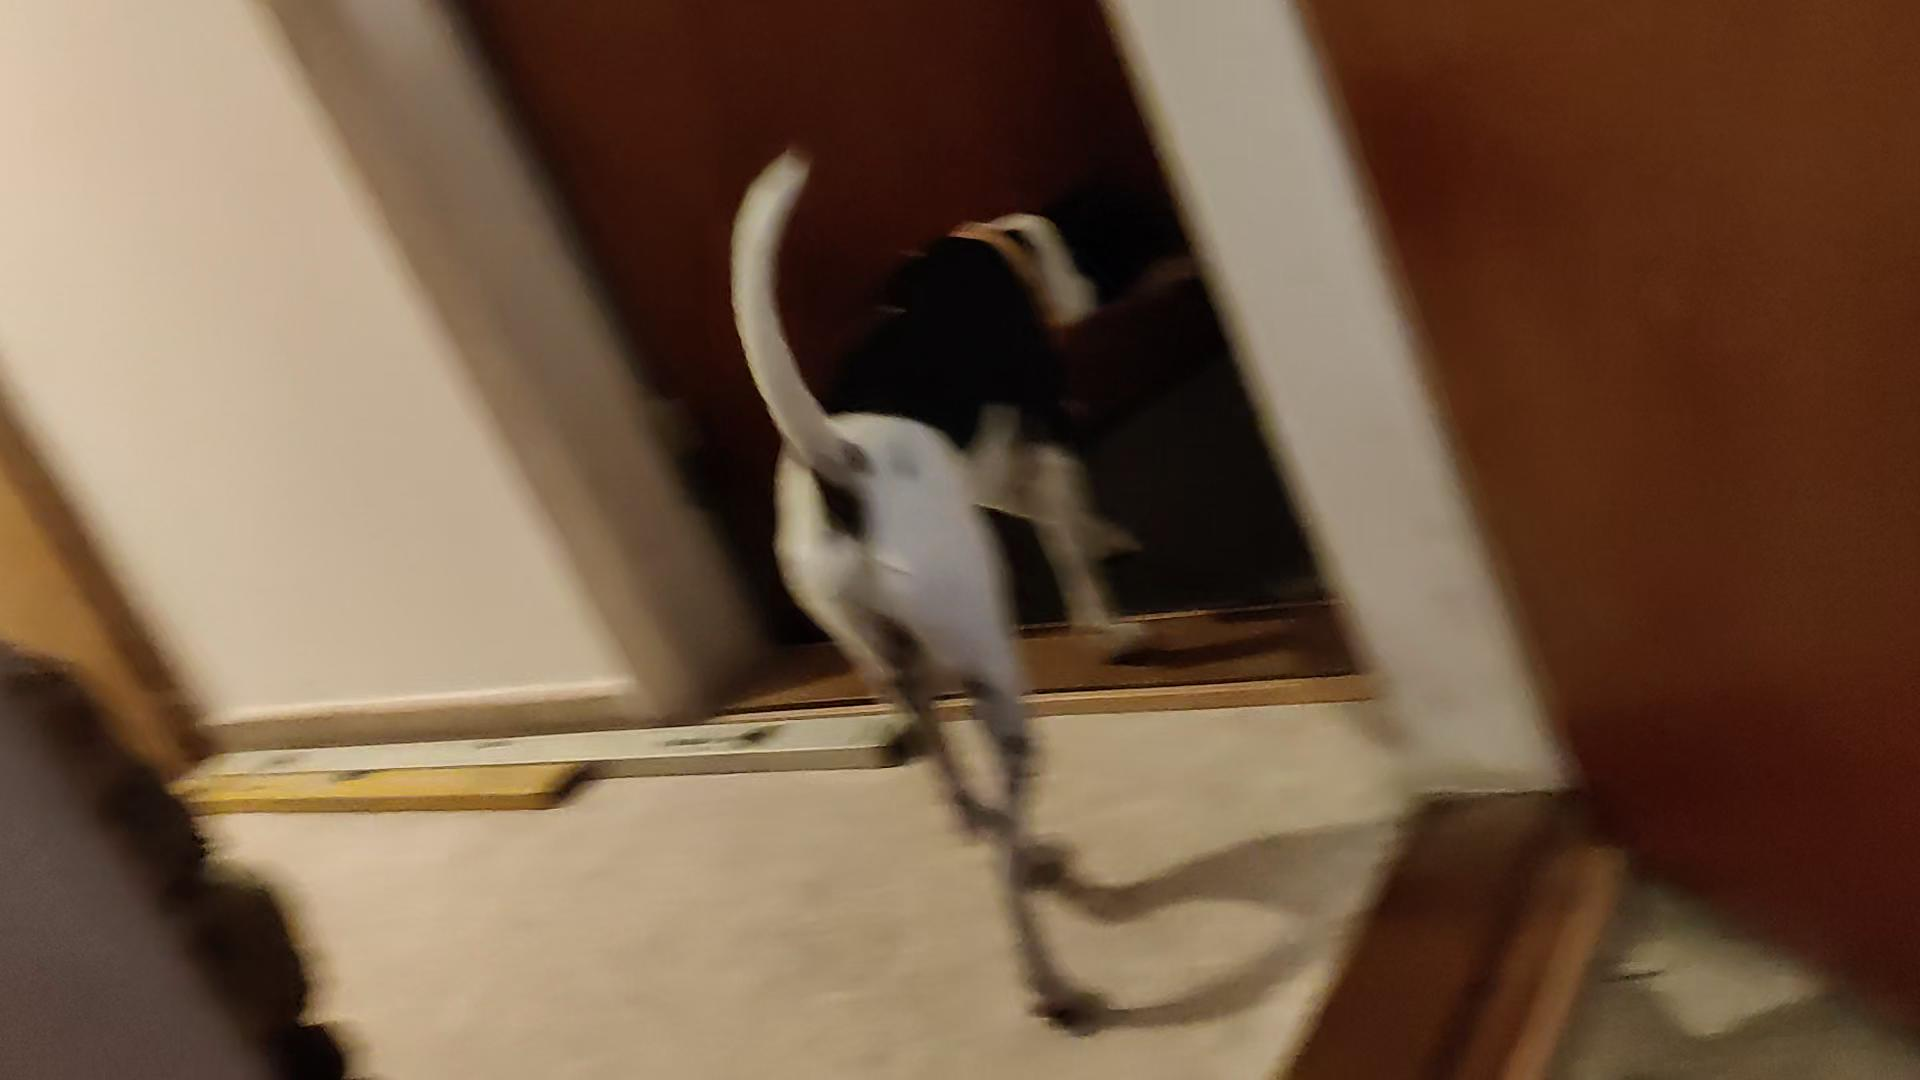Dog: (727, 142, 1211, 1048)
